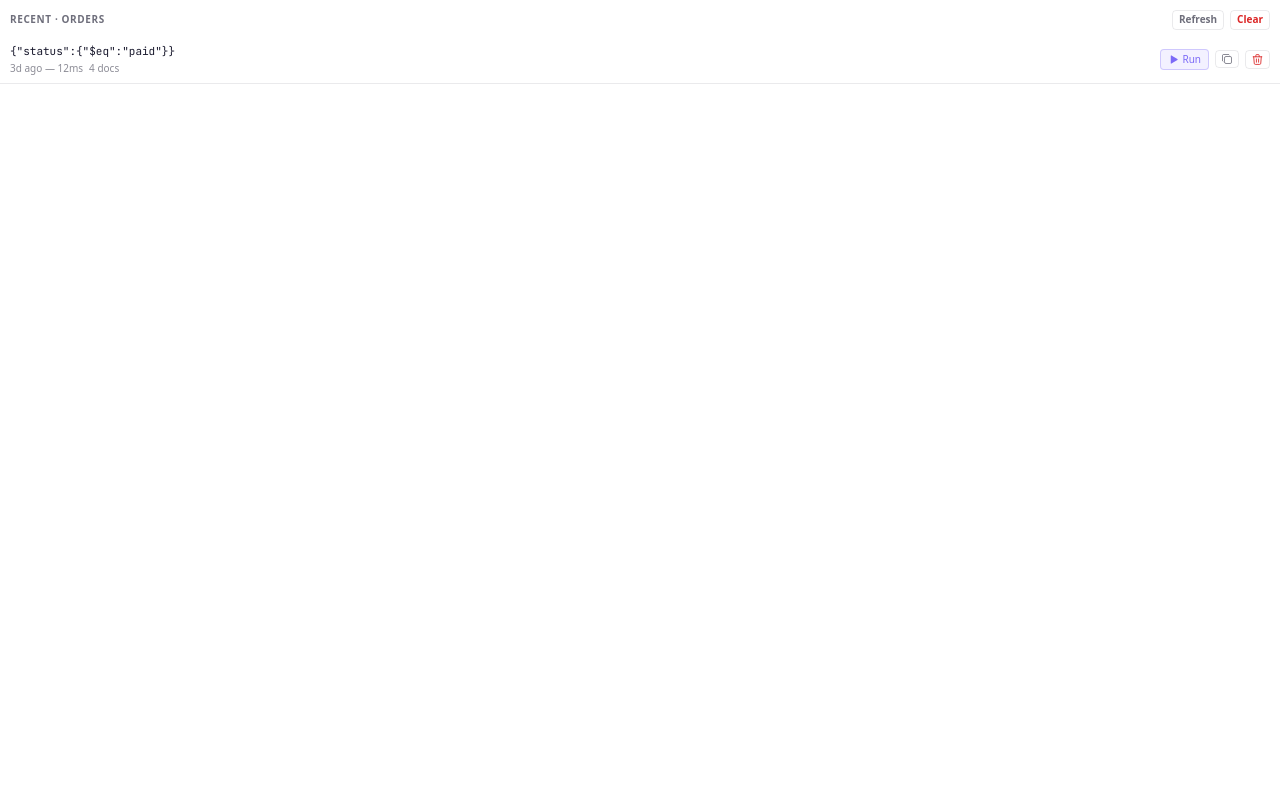
W15 §13.7 — Recent's Copy MQL reports, and never silently no-ops › copies and says so
Click the button named "Copy MQL to the clipboard": click(1227, 59) [1215,50,1239,68]
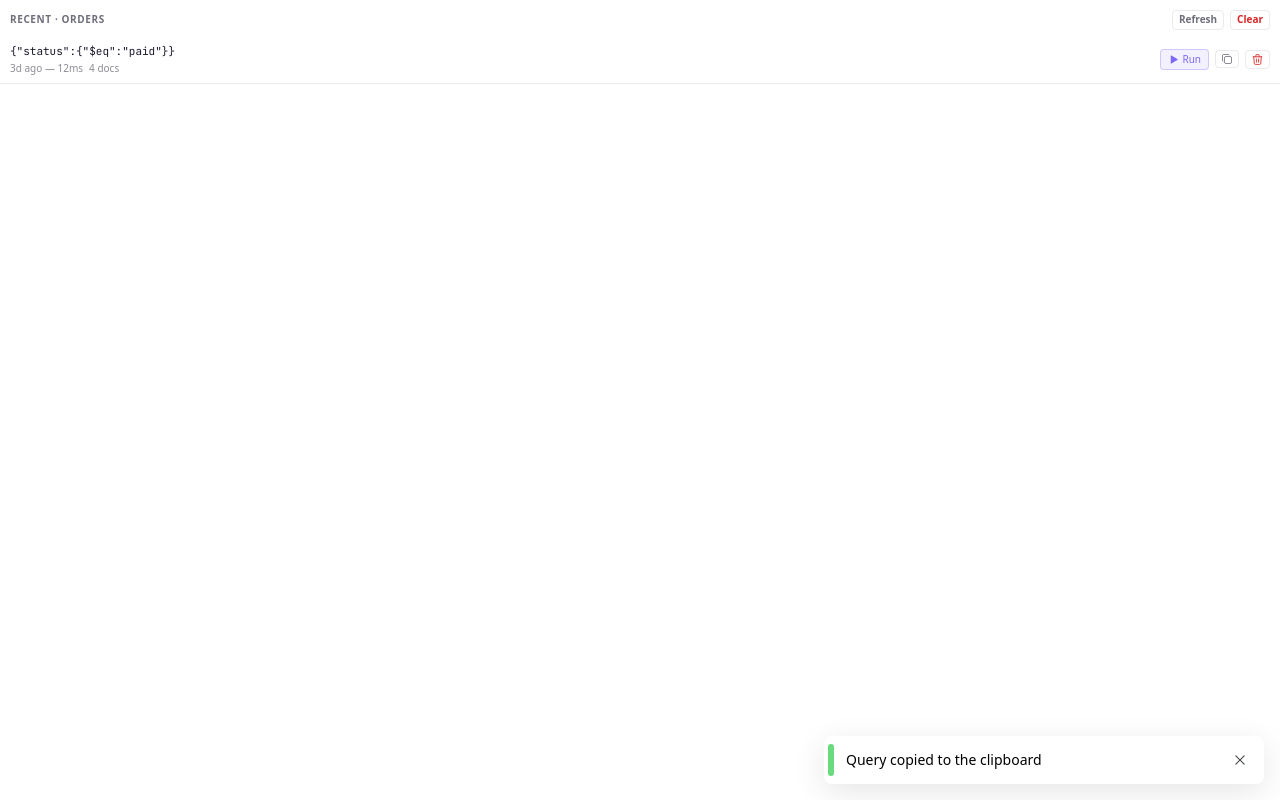
Expected: the text "Query copied to the clipboard" is shown, [846,750,1042,769]
